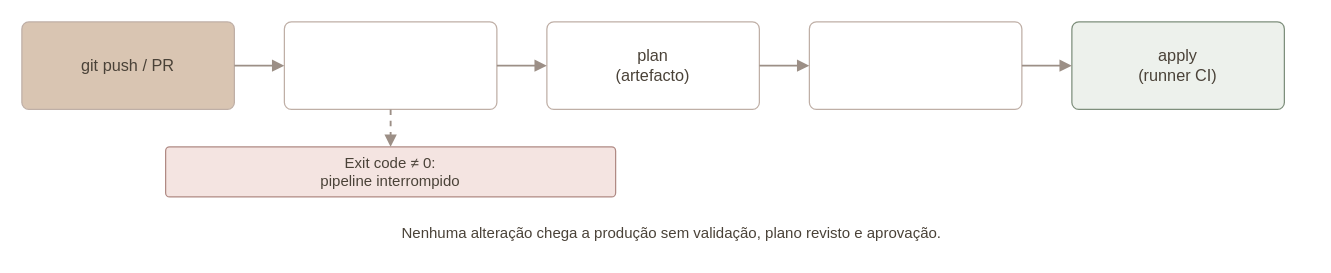
This 1331x273 diagram has some shape labels left out. Here are the shapes that lost their labels. From the top down, the centre of each, then its label:
At point 390,65: "Validar fmt, validate, lint".
At point 915,65: "Revisão (code review)".
